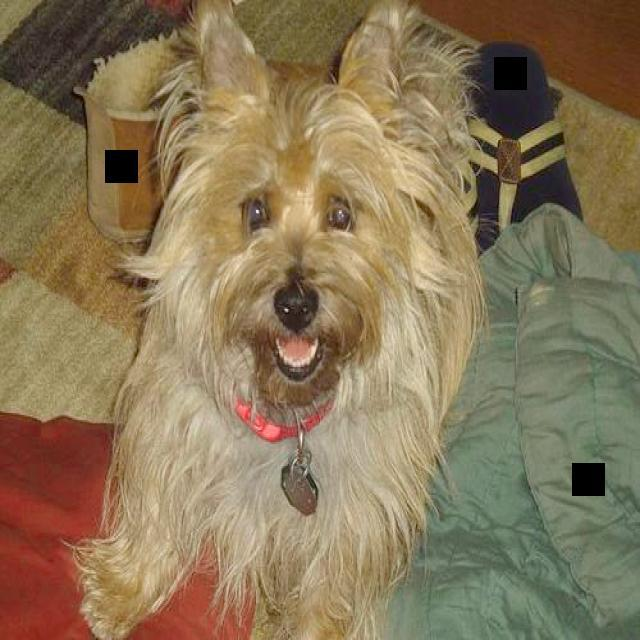adult_dog: (78, 1, 488, 637)
